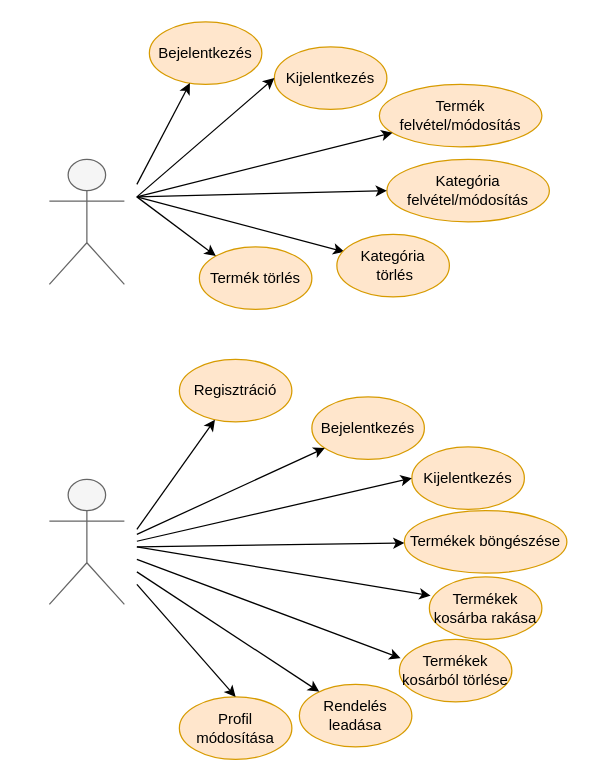
The diagram is 589 pixels wide and 781 high, and some of its shapes have lost their labels. The shapes that lost their labels are listed below. From the top down, each one's centre as x and y in pixels, then its label:
At (x=86, y=221): "Admin".
At (x=86, y=541): "Vásárló (Customer)".
